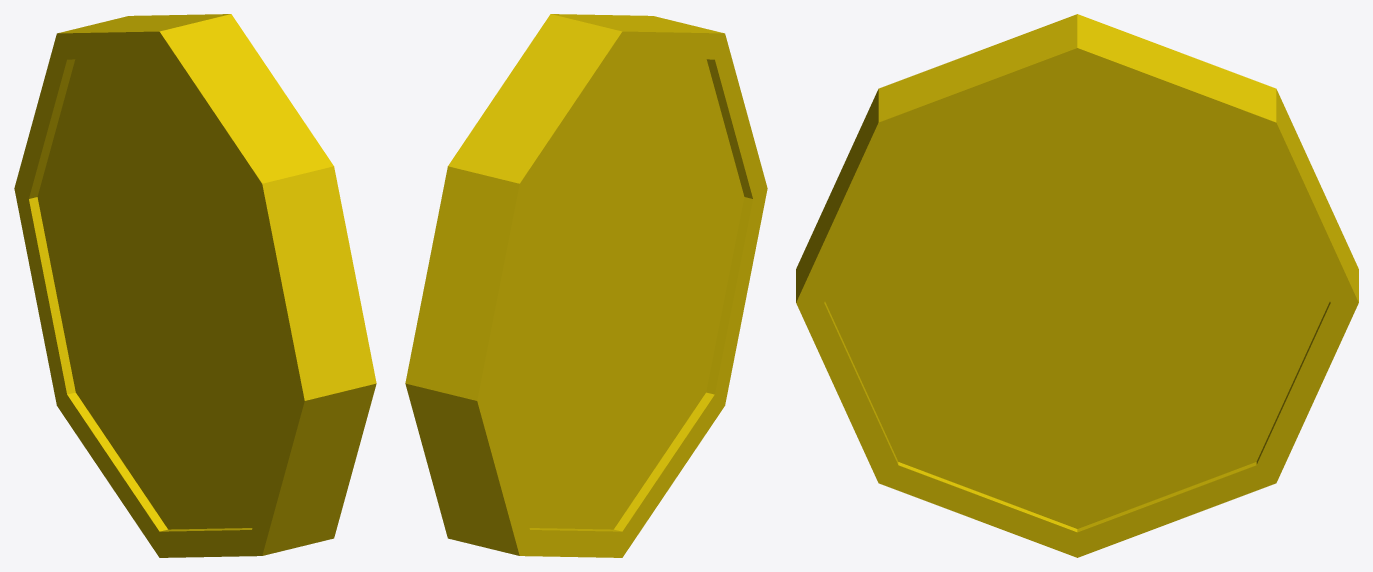
The model's file is basicasscoin.glb.
3 renders of one model, left to right at view 1: azimuth 30°, elevation 25°; view 2: azimuth 150°, elevation 25°; view 3: azimuth 270°, elevation 25°, orthographic. The views are drawn at different scales.
Visible parts, largest first — view 1: Circle; view 2: Circle; view 3: Circle.
Boxes of the visible parts, x1,y1,x2,y2 form: Circle: (14, 14, 376, 557); Circle: (405, 14, 767, 557); Circle: (796, 14, 1358, 557).
Size of the model in its own units: 0.4 by 2.8 by 2.8.
